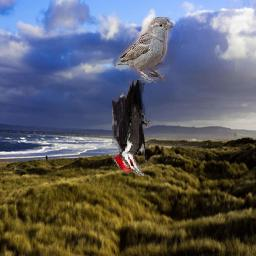Sparrow: (115, 17, 174, 83)
Woodpecker: (112, 80, 150, 176)
